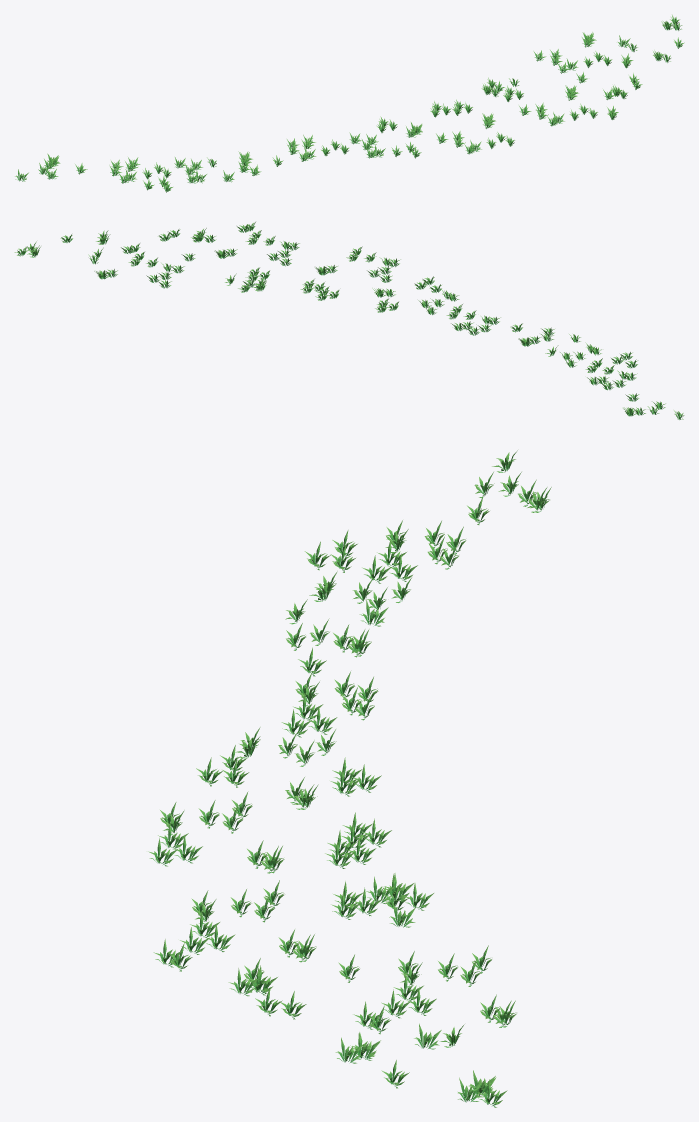
Rendered from Area_07_9.fbx.
3 renders of one model, top to bottom at view 1: azimuth 30°, elevation 25°; view 2: azimuth 150°, elevation 25°; view 3: azimuth 270°, elevation 25°, orthographic. The views are drawn at different scales.
Visible parts, largest first — view 1: Area_07_9; view 2: Area_07_9; view 3: Area_07_9.
Part boxes in pixels (x1,y1,x2,y2): Area_07_9: (15,15,684,192); Area_07_9: (14,222,684,419); Area_07_9: (148,450,551,1107).
Size of the model in its own units: 5875 by 93.02 by 1557.
Materials: 1 (1 with a texture image).
